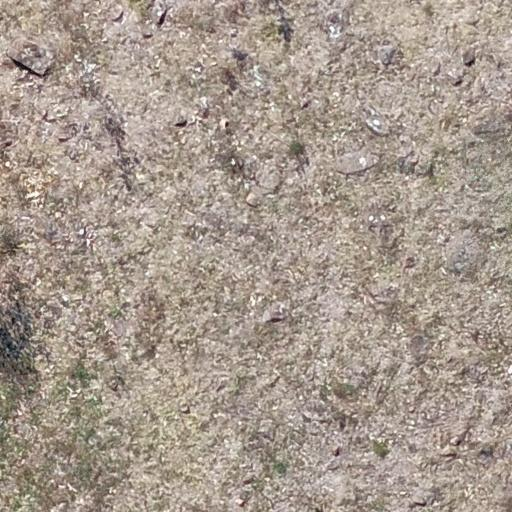stone: (8, 39, 57, 77), (362, 106, 390, 136), (146, 2, 174, 30), (323, 8, 347, 40), (255, 418, 282, 444), (38, 219, 62, 246), (260, 303, 288, 325), (42, 298, 66, 322), (172, 111, 202, 128), (174, 397, 197, 414), (228, 153, 246, 174), (40, 108, 62, 124), (444, 66, 464, 82), (440, 442, 460, 458), (196, 96, 210, 117), (406, 150, 420, 168), (267, 373, 281, 390), (104, 378, 120, 392), (469, 329, 483, 345), (403, 255, 417, 270), (329, 446, 344, 458), (432, 61, 442, 77), (215, 380, 227, 393), (218, 118, 230, 131), (299, 98, 311, 110), (2, 138, 14, 150), (242, 476, 254, 486), (234, 498, 246, 508), (452, 436, 462, 446), (142, 31, 154, 39), (229, 28, 238, 38)
